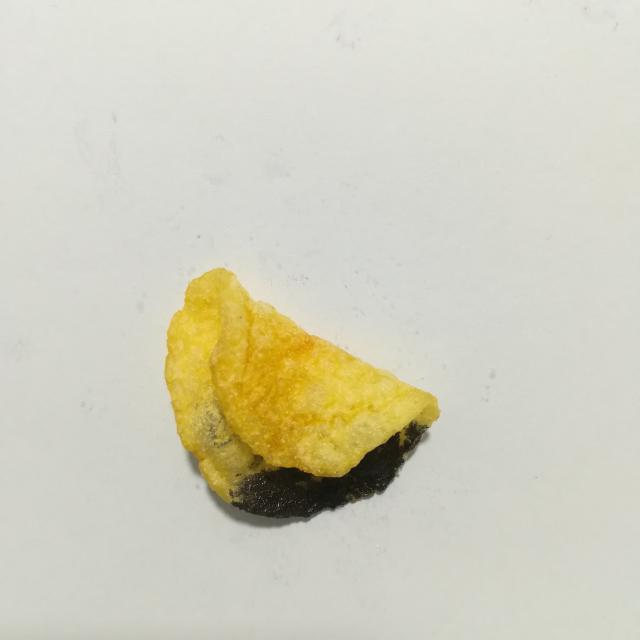chip: (165, 268, 440, 516)
damaged: (229, 421, 426, 518), (235, 473, 243, 476)
semi-damaged: (195, 400, 236, 451), (249, 455, 263, 470)
